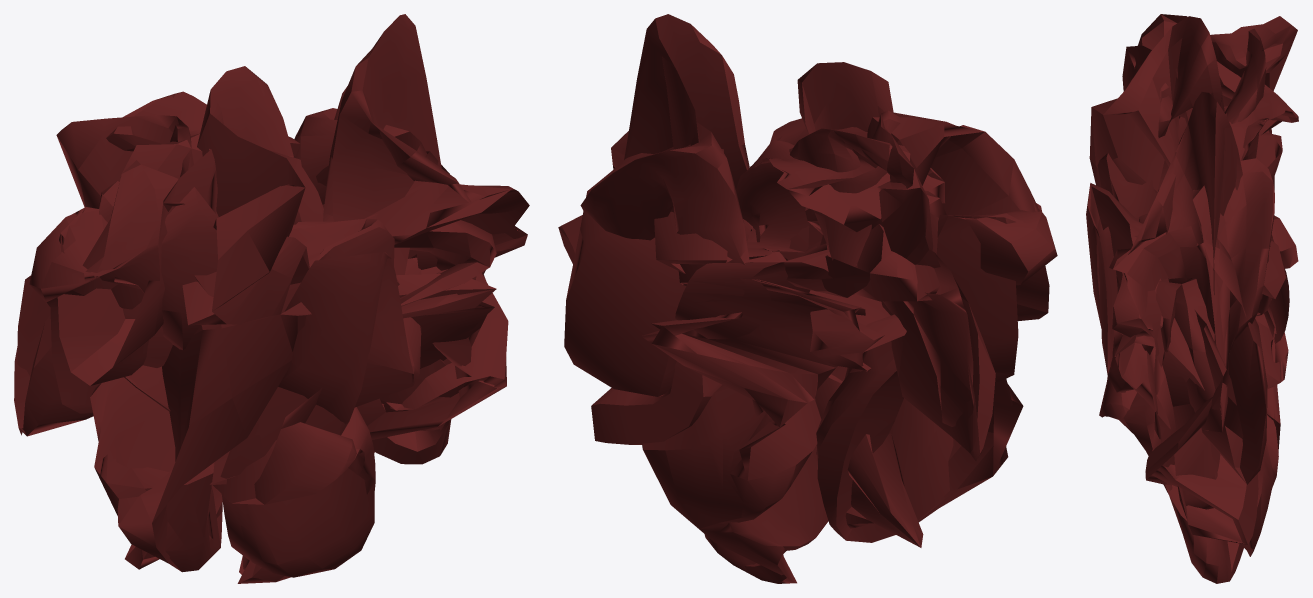
File: 90 heart.obj
3 views of the same model, side by side, from view 1: azimuth 30°, elevation 25°; view 2: azimuth 150°, elevation 25°; view 3: azimuth 270°, elevation 25° (orthographic). The views are drawn at different scales.
Parts seen in each view (by area): view 1: 000_Heart; view 2: 000_Heart; view 3: 000_Heart.
Part boxes in pixels (x1,y1,x2,y2): 000_Heart: [14, 14, 529, 583]; 000_Heart: [558, 14, 1057, 583]; 000_Heart: [1086, 14, 1298, 583].
Bounding box in the file's own units: 356 × 385 × 140.
